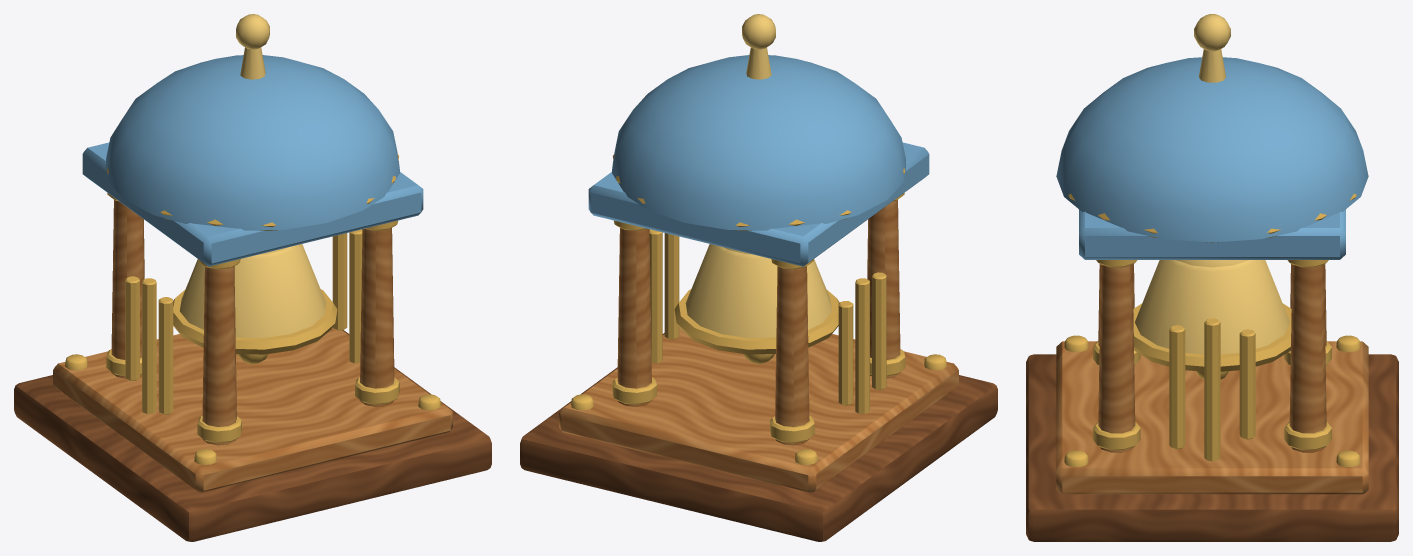
The model's file is tourelle_carillon.glb.
3 views of the same model, side by side, from view 1: azimuth 30°, elevation 25°; view 2: azimuth 150°, elevation 25°; view 3: azimuth 270°, elevation 25° (orthographic). The views are drawn at different scales.
Parts seen in each view (by area): view 1: tourelle_carillon; view 2: tourelle_carillon; view 3: tourelle_carillon.
Part boxes in pixels (x1=…): tourelle_carillon: x1=14, y1=14, x2=491, y2=541; tourelle_carillon: x1=520, y1=14, x2=997, y2=541; tourelle_carillon: x1=1026, y1=14, x2=1398, y2=541.
Bounding box in the file's own units: 1.48 × 1.98 × 1.48.
6 materials, 2 textured.
